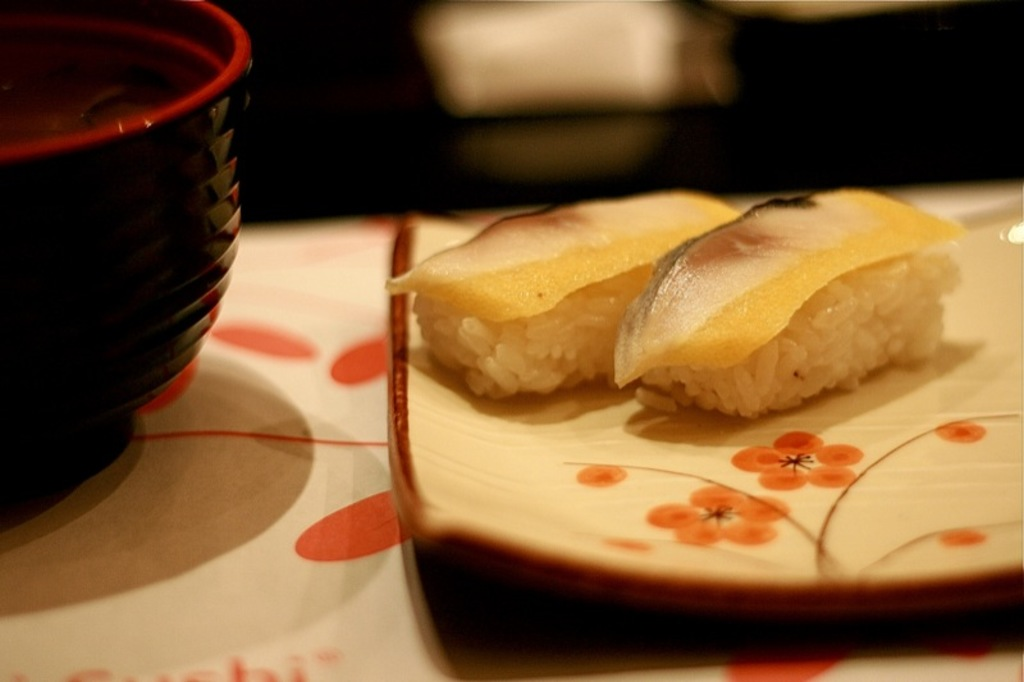sushi: (608, 186, 956, 426), (381, 188, 741, 402)
